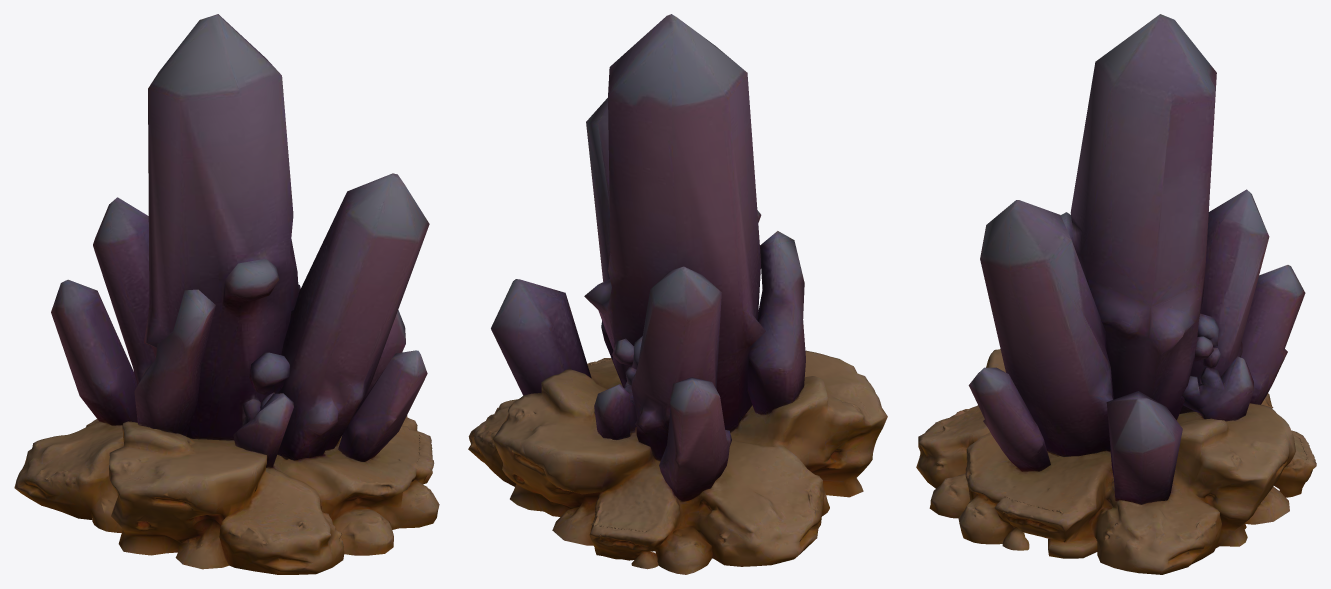
File: cav_resonant_crystal_cluster_a_LOD0.glb
The picture shows the model from 3 angles, left to right: view 1: azimuth 30°, elevation 25°; view 2: azimuth 150°, elevation 25°; view 3: azimuth 270°, elevation 25°; orthographic projection. The views are drawn at different scales.
Visible parts, largest first — view 1: tripo_node_47d5b845-be1a-4137-8bfe-d0635d554248; view 2: tripo_node_47d5b845-be1a-4137-8bfe-d0635d554248; view 3: tripo_node_47d5b845-be1a-4137-8bfe-d0635d554248.
Part boxes in pixels (x1,y1,x2,y2): tripo_node_47d5b845-be1a-4137-8bfe-d0635d554248: (14, 14, 439, 574); tripo_node_47d5b845-be1a-4137-8bfe-d0635d554248: (468, 14, 887, 574); tripo_node_47d5b845-be1a-4137-8bfe-d0635d554248: (916, 14, 1316, 574).
Size of the model in its own units: 0.791 by 0.998 by 0.7598.
Materials: 1 (1 with a texture image).
